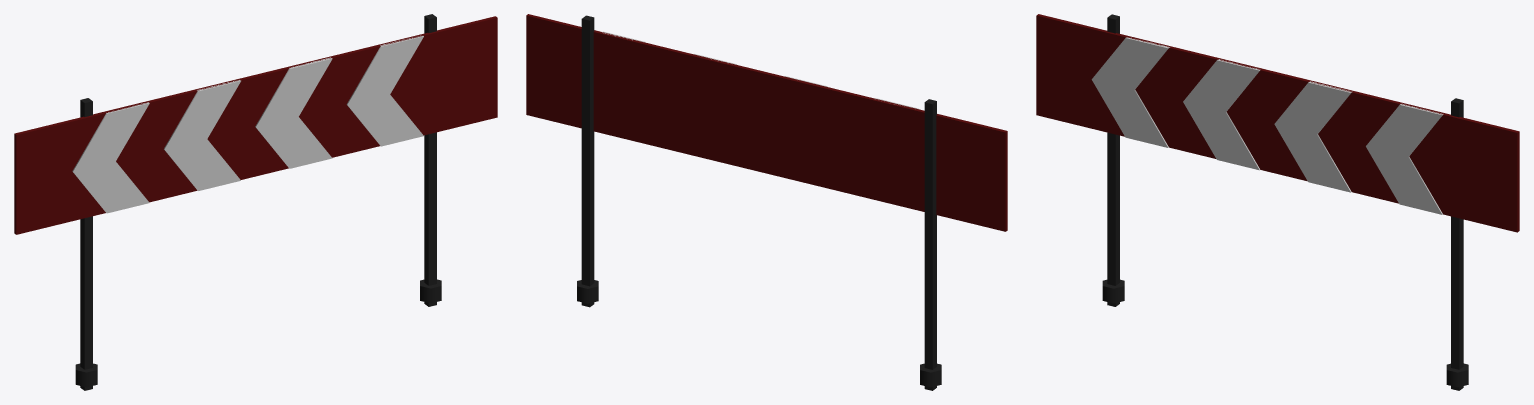
The model's file is Props1.fbx.
3 views of the same model, side by side, from view 1: azimuth 30°, elevation 25°; view 2: azimuth 150°, elevation 25°; view 3: azimuth 330°, elevation 25° (orthographic).
Visible parts, largest first — view 1: Props1; view 2: Props1; view 3: Props1.
Boxes of the visible parts, <box> form: Props1: <box>14,14,497,390</box>; Props1: <box>526,14,1007,390</box>; Props1: <box>1036,14,1519,390</box>.
Bounding box in the file's own units: 5.89 × 3.37 × 0.2322.
